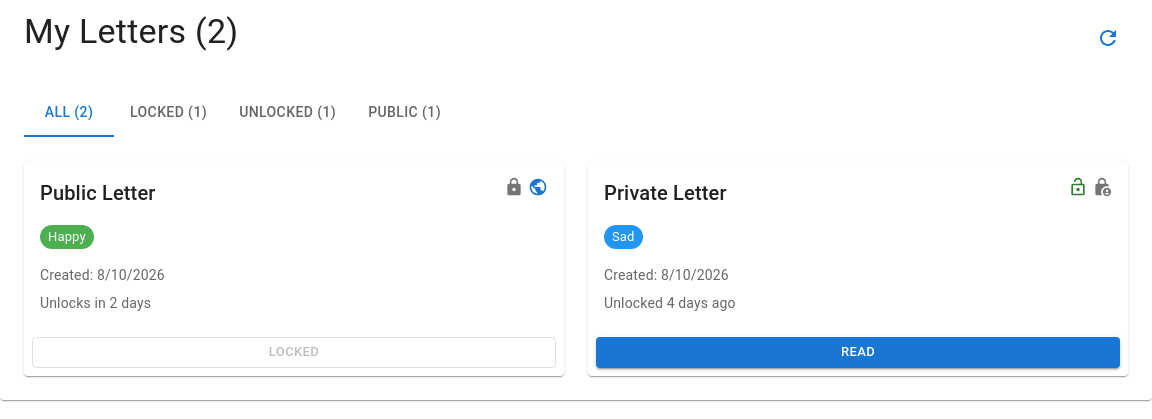
Test: MyLetters Component › filters letters correctly when switching tabs
expect the heading "Public Letter" is shown: met, box [40,177,156,209]
Note: Switch to Public tab
Click the tab "Public (1)": (405,113) [352,89,457,137]
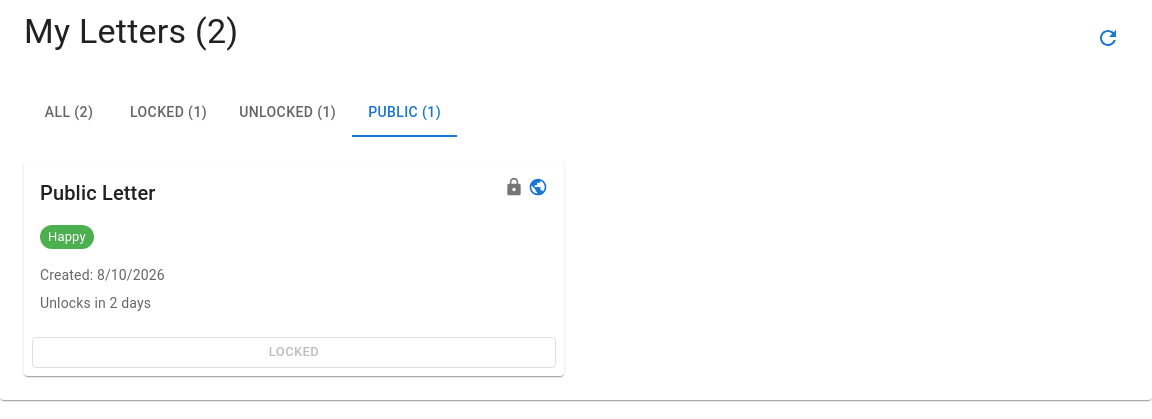
expect the heading "Public Letter" is shown: met, box [40,177,156,209]
expect the heading "Private Letter" is gone: met
Note: Switch to Unlocked tab
Click the tab "Unlocked (1)": (288,113) [223,89,352,137]
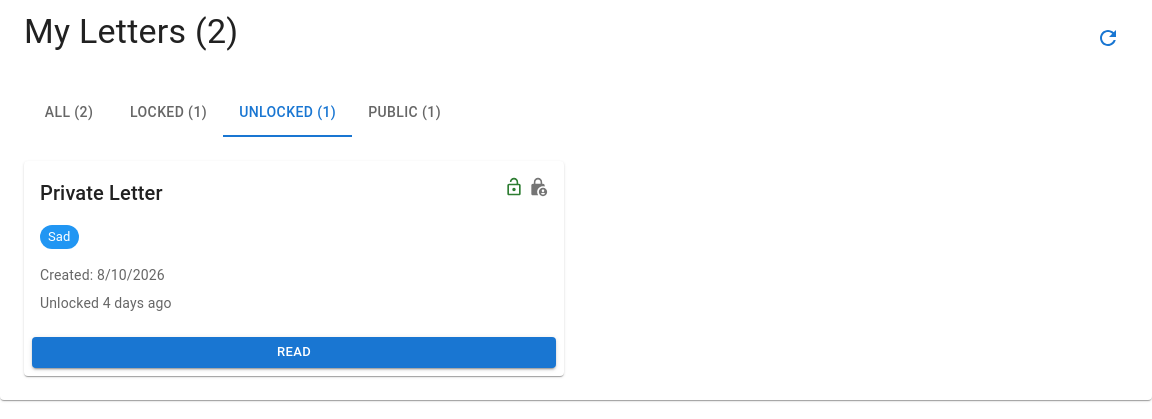
expect the heading "Private Letter" is shown: met, box [40,177,163,209]
expect the heading "Public Letter" is gone: met
